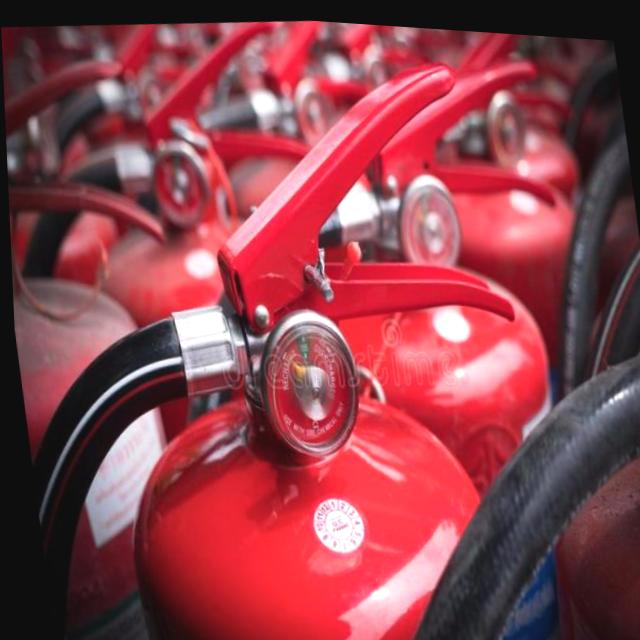FireExtinguisher: (1, 22, 557, 640), (165, 21, 624, 640), (0, 0, 383, 640), (2, 44, 218, 640)
